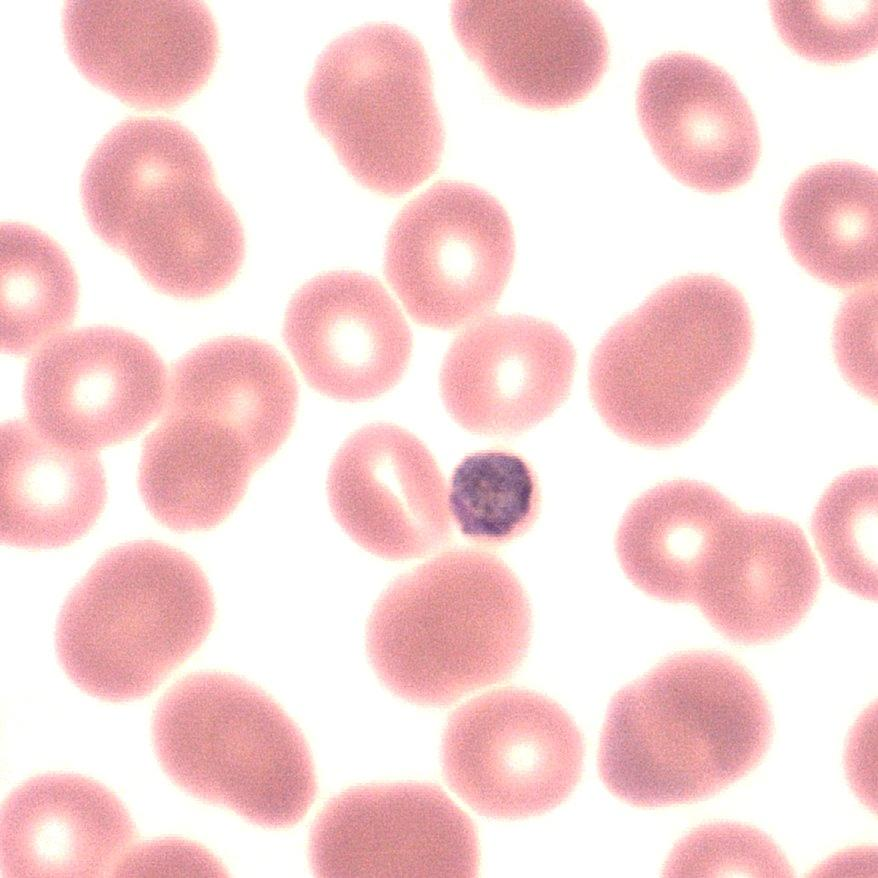Infected: (445, 446, 540, 540)
Uninfected: (52, 543, 225, 700), (70, 116, 213, 249), (155, 668, 285, 813), (635, 51, 760, 201), (317, 423, 452, 560), (445, 686, 583, 820), (385, 181, 515, 323), (635, 643, 770, 778), (160, 336, 295, 470), (67, 0, 227, 113), (23, 331, 173, 450), (448, 0, 618, 101), (305, 776, 472, 878), (405, 551, 533, 683), (438, 311, 578, 430), (620, 476, 745, 603), (287, 266, 402, 401), (355, 576, 465, 713), (630, 276, 755, 395), (590, 316, 703, 445), (125, 186, 248, 303), (137, 411, 252, 536), (0, 421, 103, 556), (295, 26, 420, 136), (698, 516, 810, 638), (775, 156, 878, 283), (592, 691, 712, 798), (335, 78, 442, 191), (10, 778, 127, 878), (215, 706, 312, 818), (0, 221, 72, 355)
